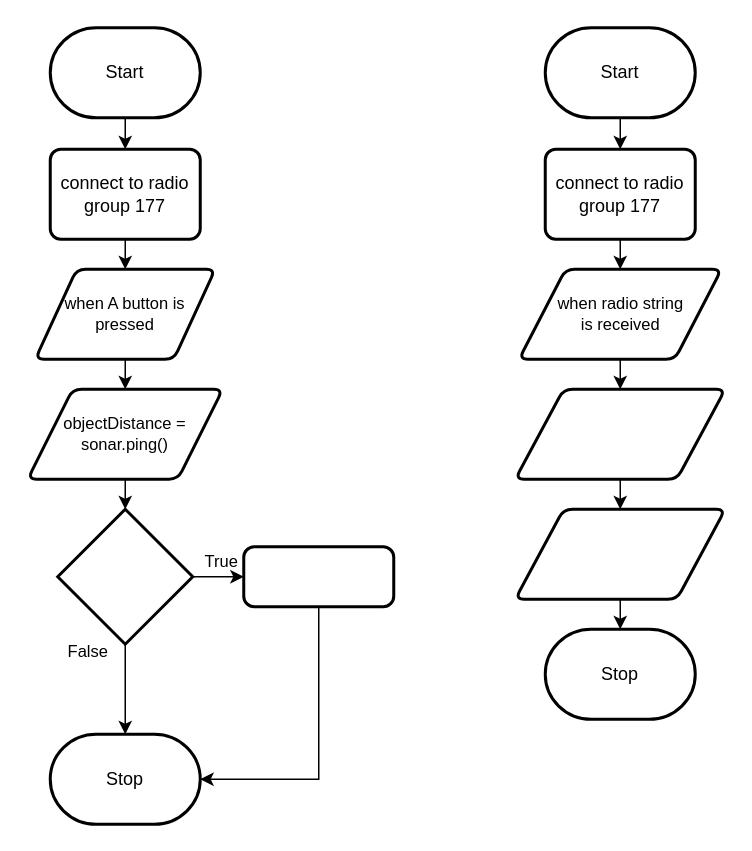
Some shapes in this 752 by 851 pixel diagram are drawn without their labels. The shapes that lost their labels are listed below. From the top down, each one's centre as x and y in pixels, then its label:
[619,433]: clear the screen
[619,553]: show the received string
[125,576]: if objectDistance < 10cm
[318,576]: send string "Too Close!"
